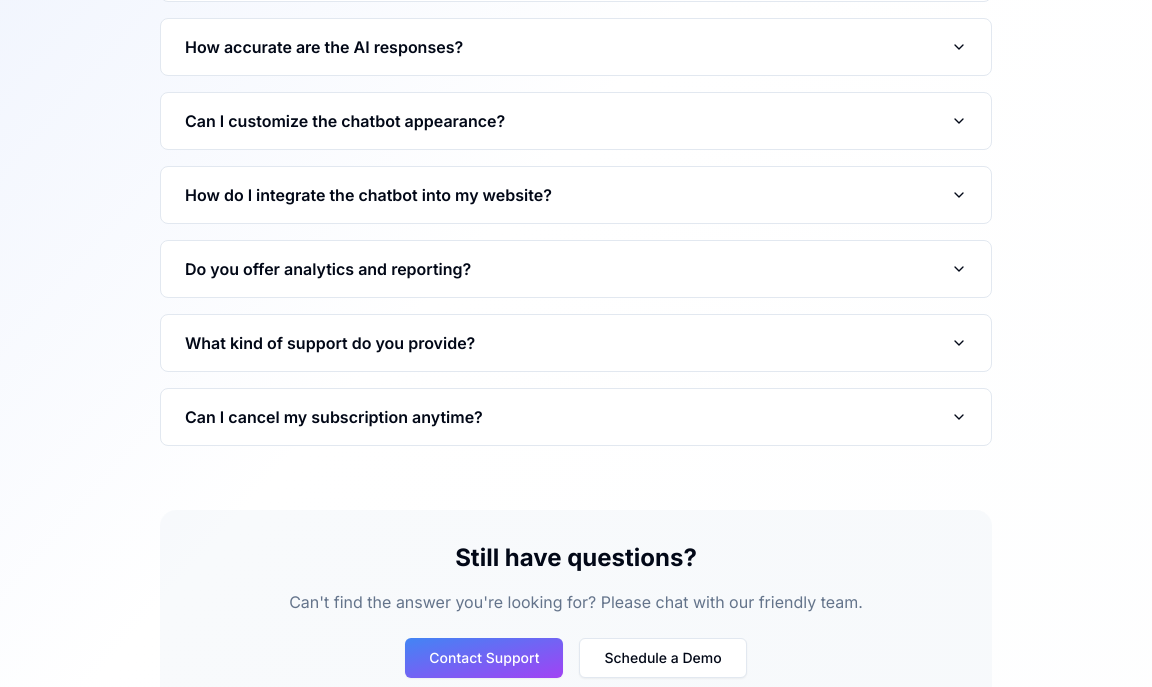
it: FAQ › should display support FAQ
(page scrolled)
Click the button "What kind of support do you provide?" at [330, 343], box [185,315,967,371]
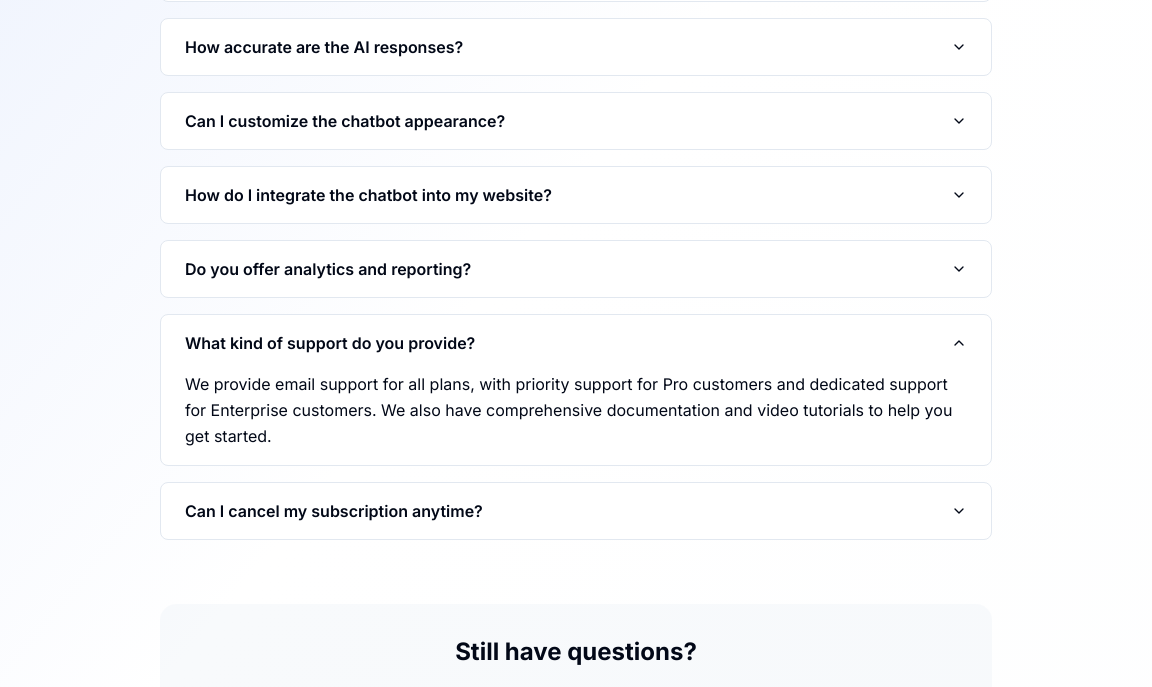
Expected: the text "We provide email support for all plans, with priority support for Pro customers and dedicated support for Enterprise cus" is shown, [185,374,952,446]
